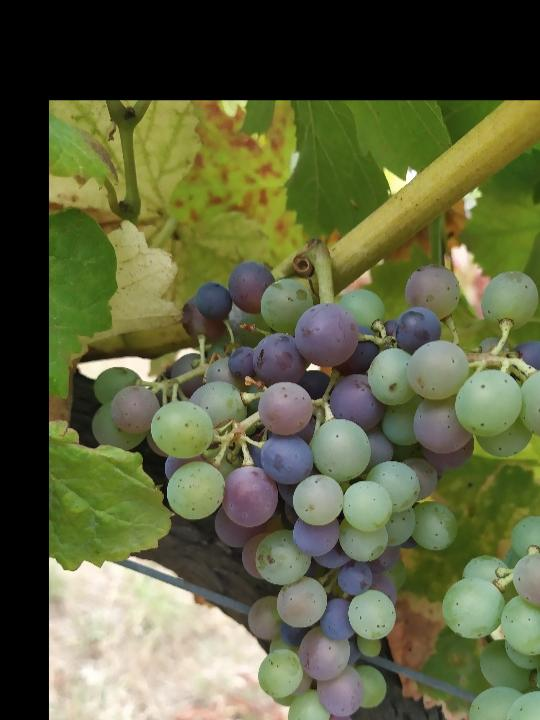grape: (93, 255, 540, 720)
